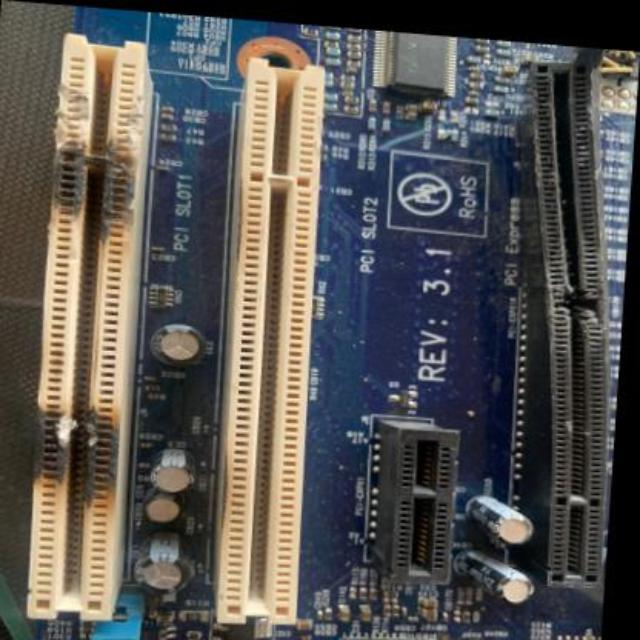PCB: (8, 16, 622, 640)
